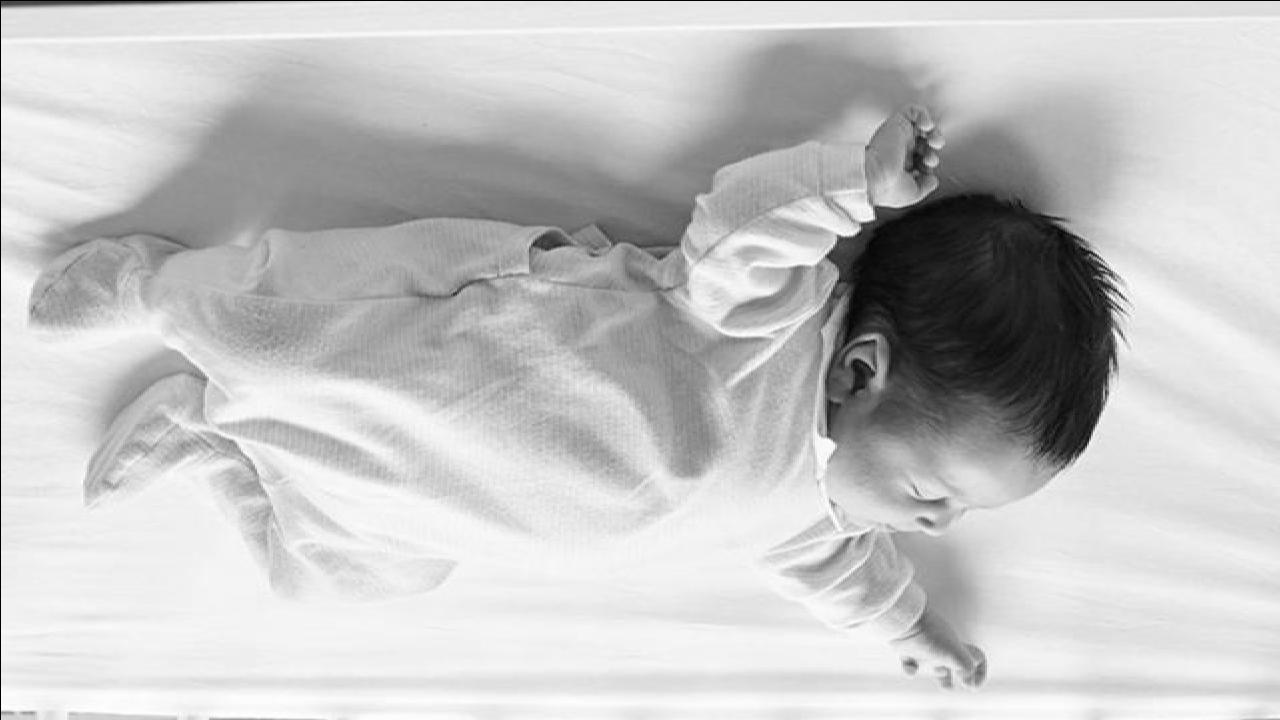hand: (863, 101, 946, 209), (894, 635, 986, 691)
